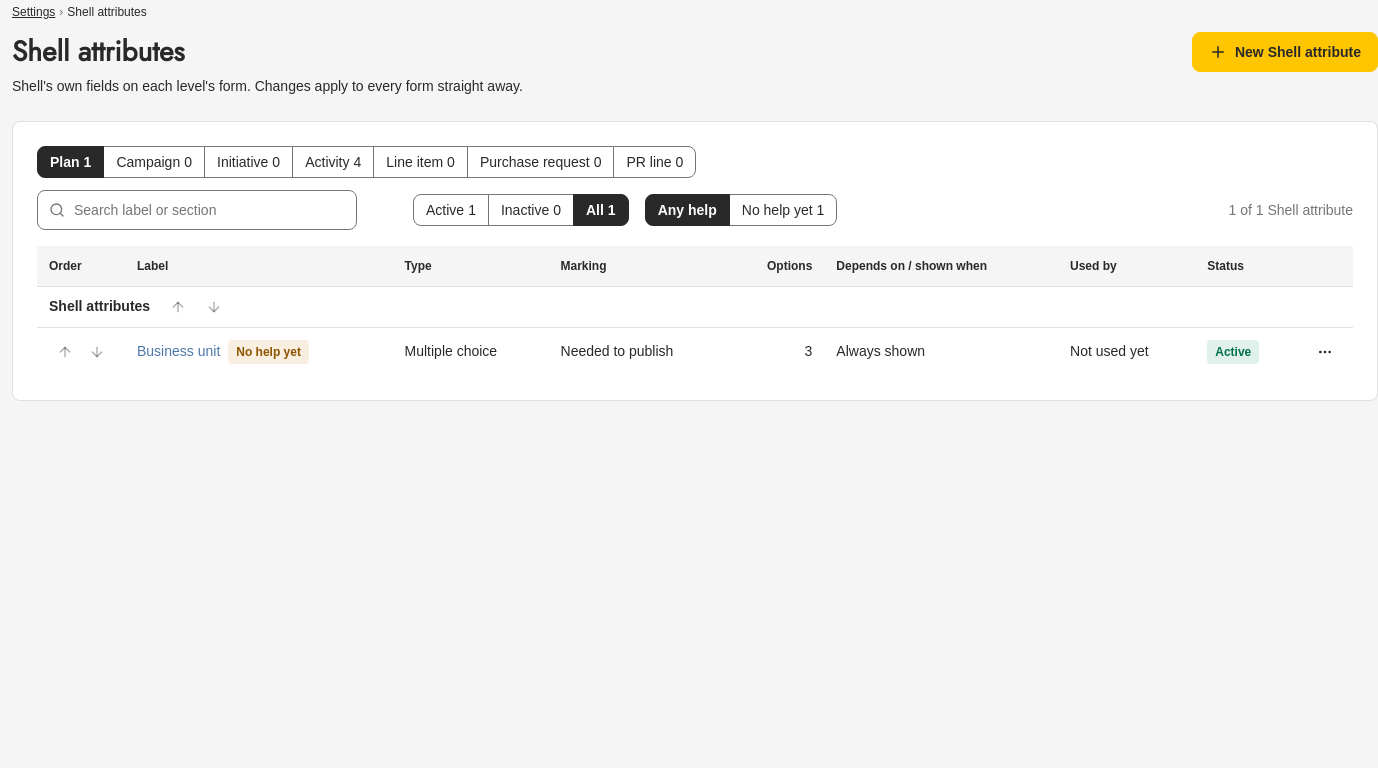
ShellAttributesPage: list (FR-016 – FR-019) › switches level and groups the attributes by section in the order of the form (FR-019)
Click the button "Activity 4": coordinates (333, 162) [292, 146, 374, 178]
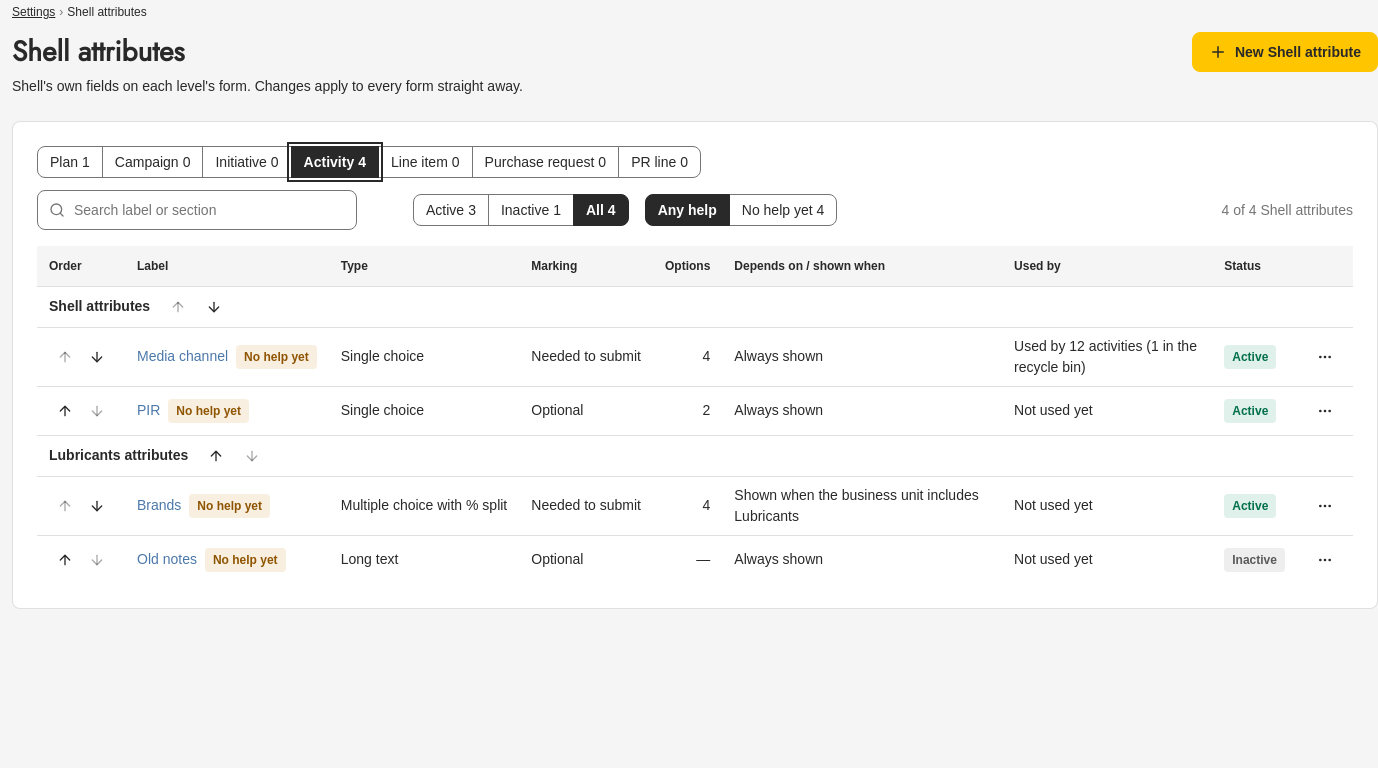
expect the text "Single choice" in the row of "Media channel" is shown: met, box [341, 348, 424, 364]
expect the text "Needed to submit" in the row of "Media channel" is shown: met, box [531, 348, 641, 364]
expect the text "4" in the row of "Media channel" is shown: met, box [702, 348, 710, 364]
